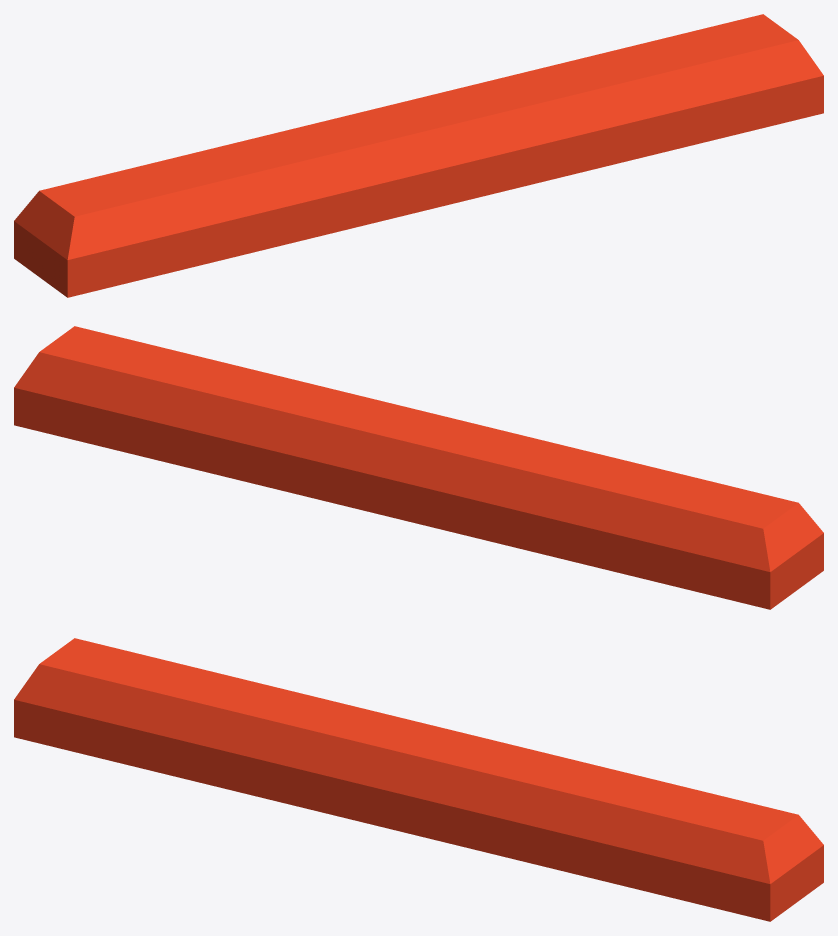
The model's file is SM_Curb_Parking_City.fbx.
3 views of the same model, one above another, from view 1: azimuth 30°, elevation 25°; view 2: azimuth 150°, elevation 25°; view 3: azimuth 330°, elevation 25° (orthographic).
Parts seen in each view (by area): view 1: SM_Curb_Parking_City; view 2: SM_Curb_Parking_City; view 3: SM_Curb_Parking_City.
Boxes of the visible parts, left/top/right/bottom form: SM_Curb_Parking_City: left=14, top=14, right=823, bottom=297; SM_Curb_Parking_City: left=14, top=326, right=823, bottom=609; SM_Curb_Parking_City: left=14, top=638, right=823, bottom=921.
Bounding box in the file's own units: 1.14 × 0.1017 × 0.14.
